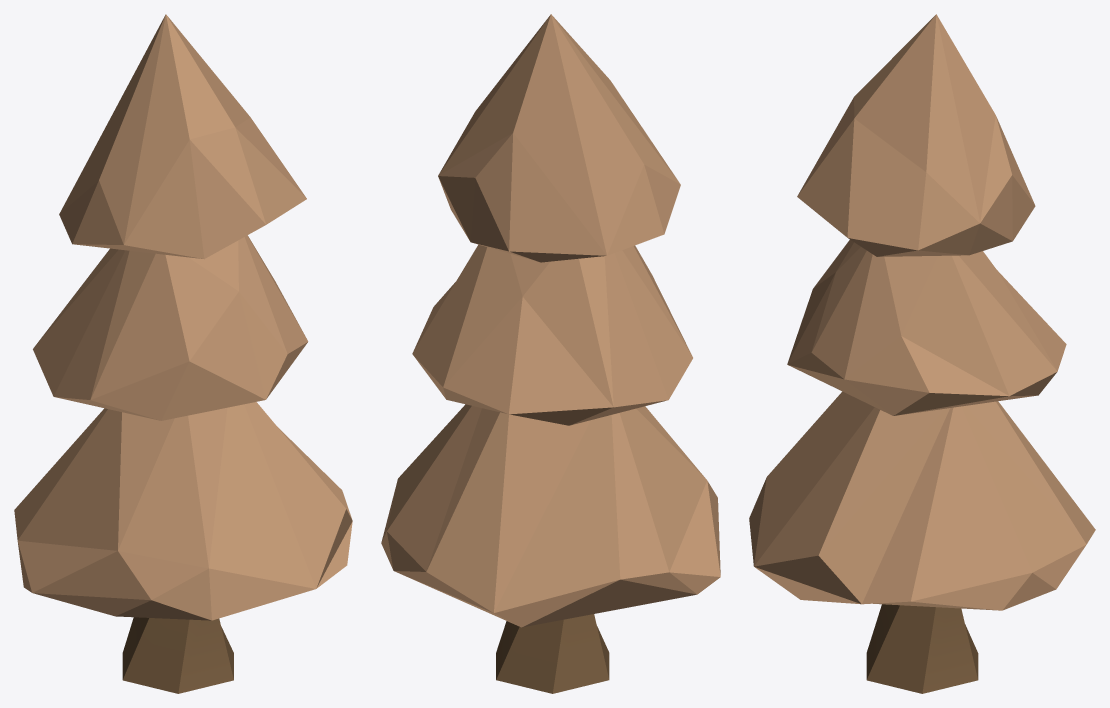
The model's file is OrangePine.fbx.
The picture shows the model from 3 angles, left to right: view 1: azimuth 30°, elevation 25°; view 2: azimuth 150°, elevation 25°; view 3: azimuth 270°, elevation 25°; orthographic projection.
Visible parts, largest first — view 1: pasted__pCylinder3; view 2: pasted__pCylinder3; view 3: pasted__pCylinder3.
Part boxes in pixels (x1,y1,x2,y2): pasted__pCylinder3: (14,14,352,693); pasted__pCylinder3: (381,14,720,693); pasted__pCylinder3: (749,14,1095,693).
Size of the model in its own units: 2.74 by 5.42 by 2.62.
